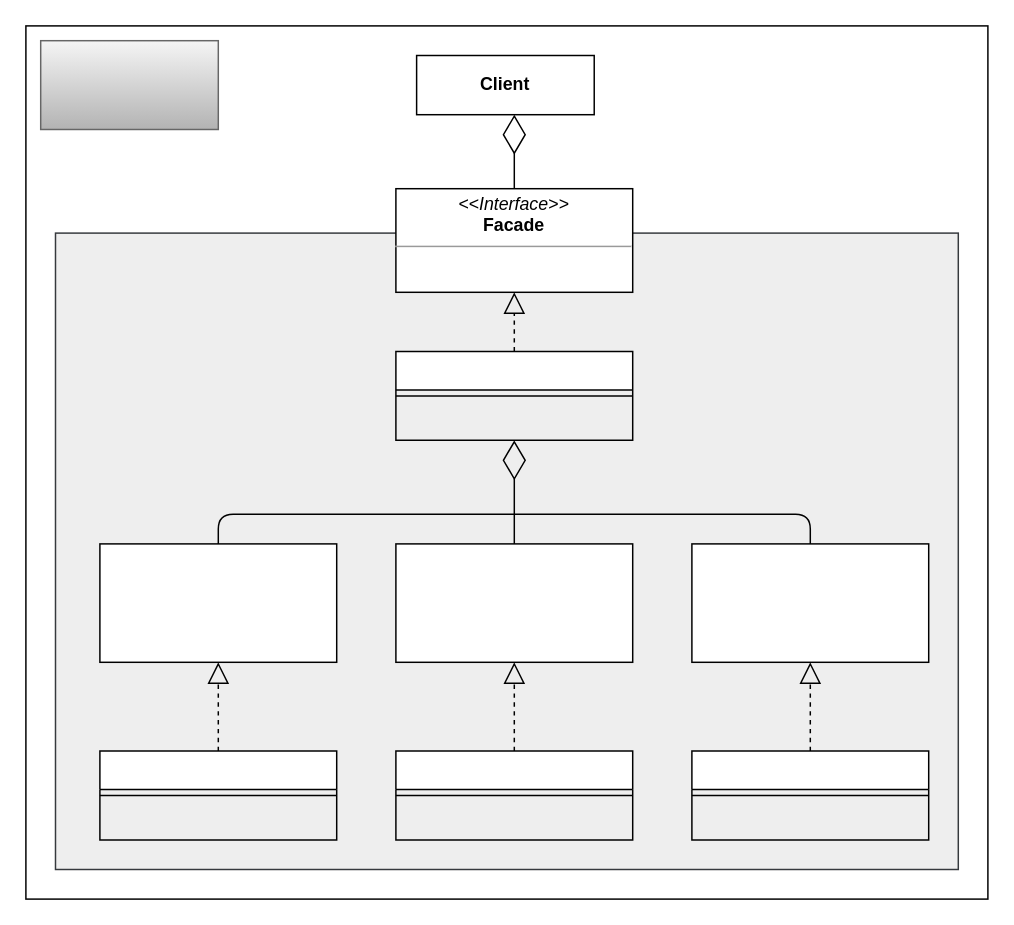
This 1014x925 diagram has some shape labels left out. Each missing label, with the centre of its shape:
"ConcreteFacade" goes at (513,395).
"Facade" goes at (128,84).
